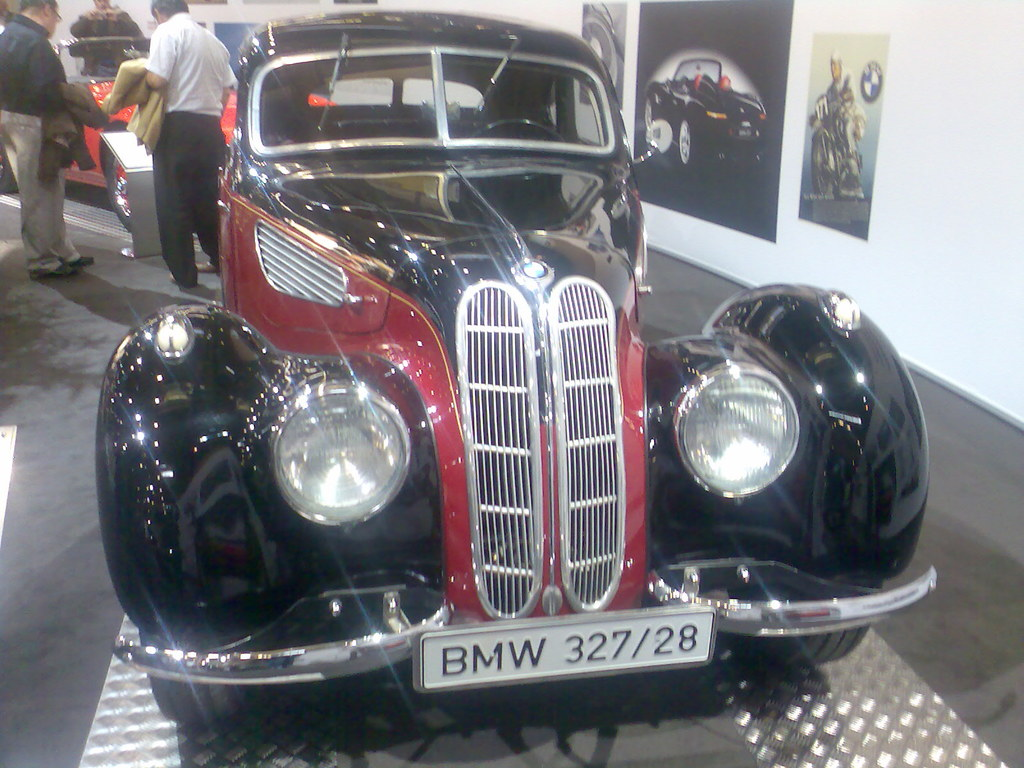Person: (145, 0, 238, 289), (0, 0, 93, 276), (810, 52, 858, 180)
